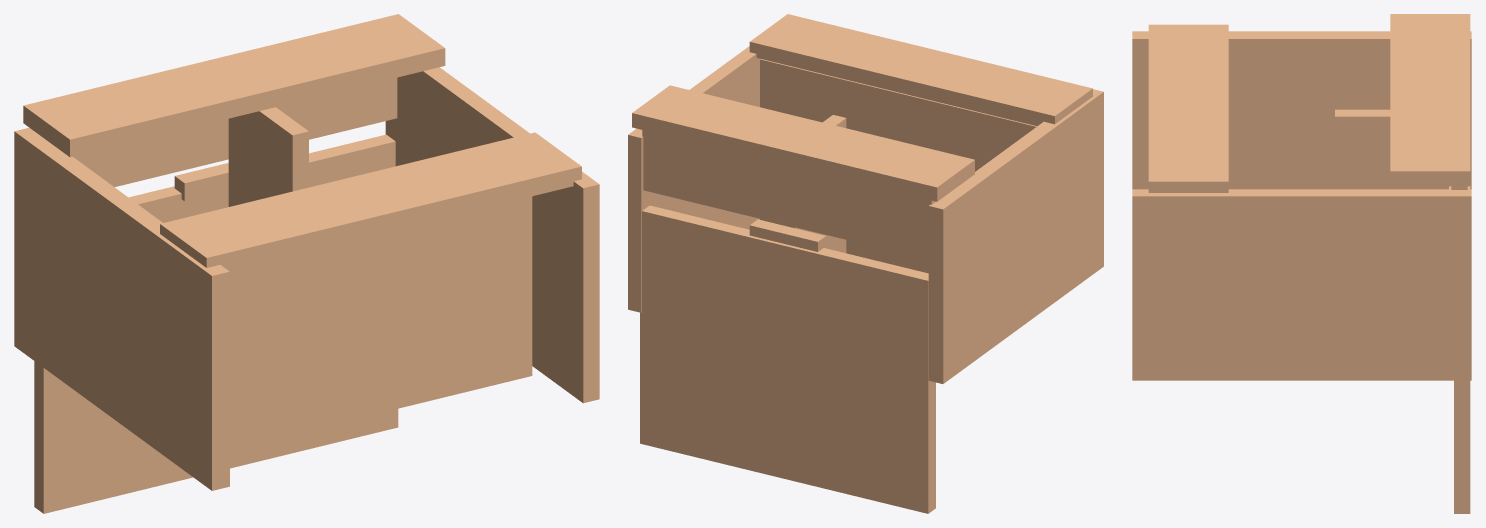
File: tinker.obj
3 views of the same model, side by side, from view 1: azimuth 30°, elevation 25°; view 2: azimuth 150°, elevation 25°; view 3: azimuth 270°, elevation 25° (orthographic). The views are drawn at different scales.
Visible parts, largest first — view 1: obj_0; view 2: obj_0; view 3: obj_0.
Boxes of the visible parts, bbox=[...] form: obj_0: bbox=[14, 14, 599, 513]; obj_0: bbox=[628, 14, 1103, 513]; obj_0: bbox=[1132, 14, 1471, 513].
Size of the model in its own units: 283 by 282 by 250.
